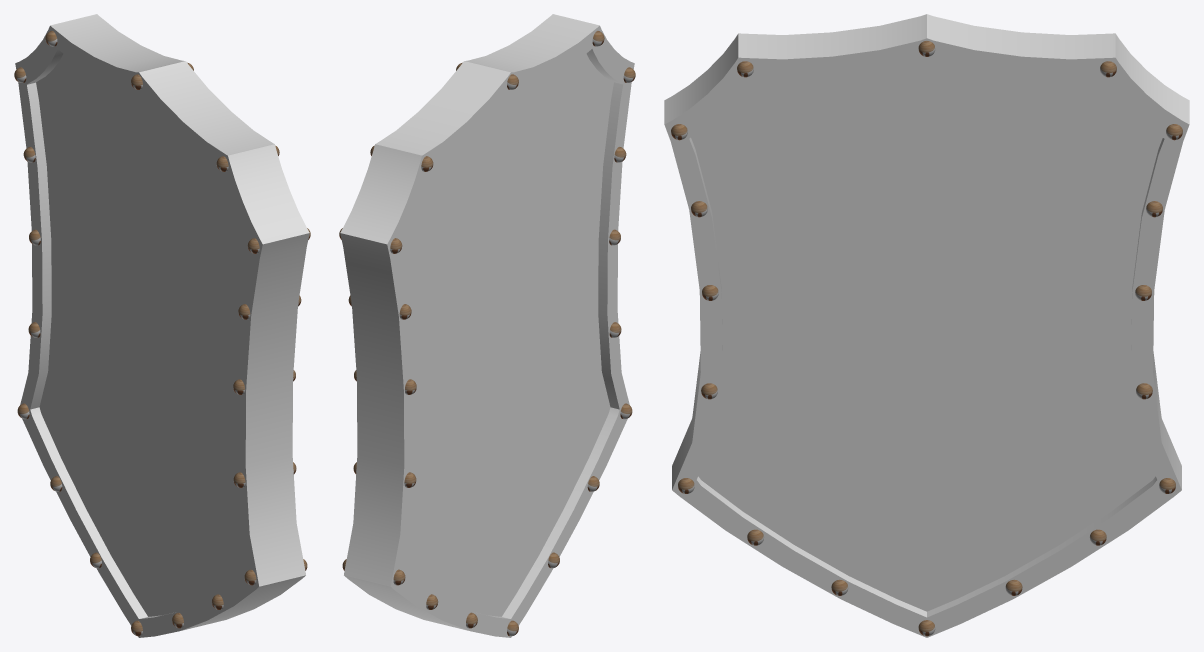
File: Shield 2 .fbx
3 views of the same model, side by side, from view 1: azimuth 30°, elevation 25°; view 2: azimuth 150°, elevation 25°; view 3: azimuth 270°, elevation 25° (orthographic). The views are drawn at different scales.
Visible parts, largest first — view 1: Cube.017, Cube.013, Sphere.046; view 2: Cube.017, Cube.013, Sphere.046; view 3: Cube.018, Cube.013, Sphere.046.
Part boxes in pixels (left/top/right/bottom): Cube.017: left=36, top=53, right=250, bottom=616; Cube.013: left=15, top=14, right=309, bottom=637; Sphere.046: left=14, top=31, right=310, bottom=636; Cube.017: left=399, top=53, right=613, bottom=616; Cube.013: left=340, top=14, right=634, bottom=637; Sphere.046: left=339, top=31, right=635, bottom=636; Cube.018: left=691, top=59, right=1162, bottom=611; Cube.013: left=664, top=14, right=1189, bottom=637; Sphere.046: left=671, top=41, right=1182, bottom=636.
Size of the model in its own units: 16.85 by 150 by 119.
